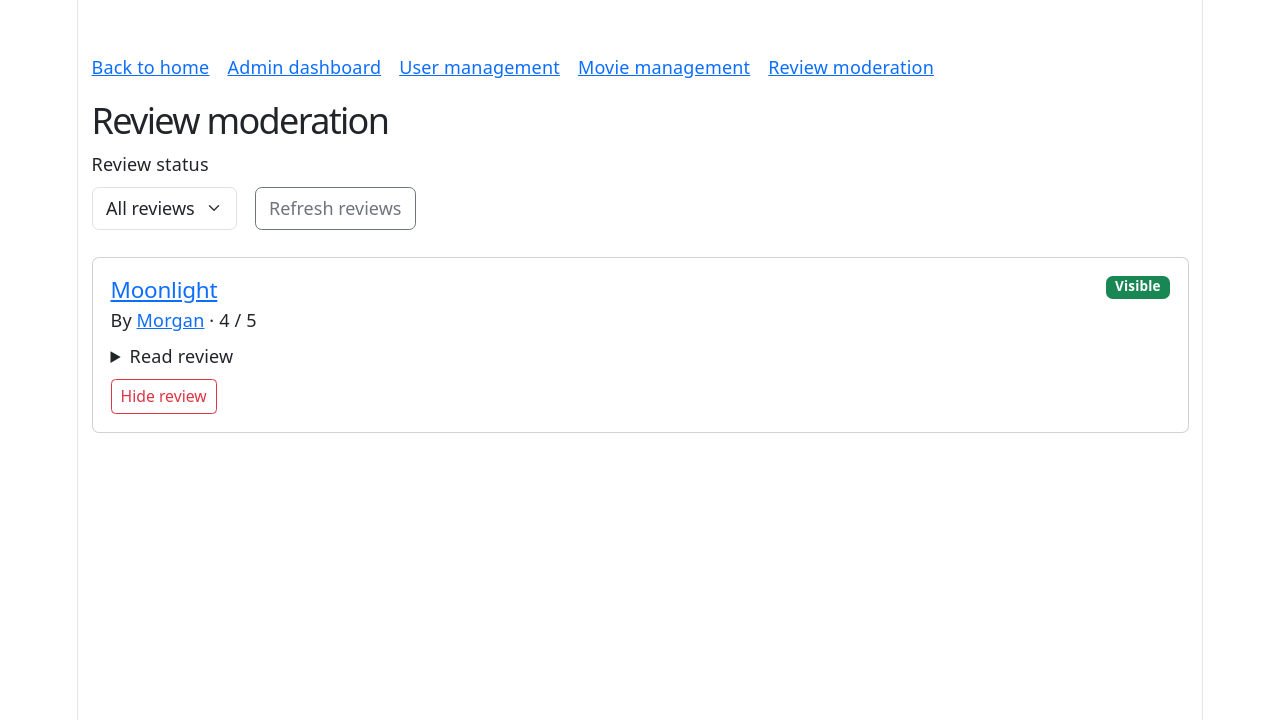
Test: preserves the entered reason and review status when Laravel rejects a change
Click the button with aria-label "Hide review of Moonlight by Morgan". click: (164, 396)
box: x1=110 y1=379 x2=217 y2=414
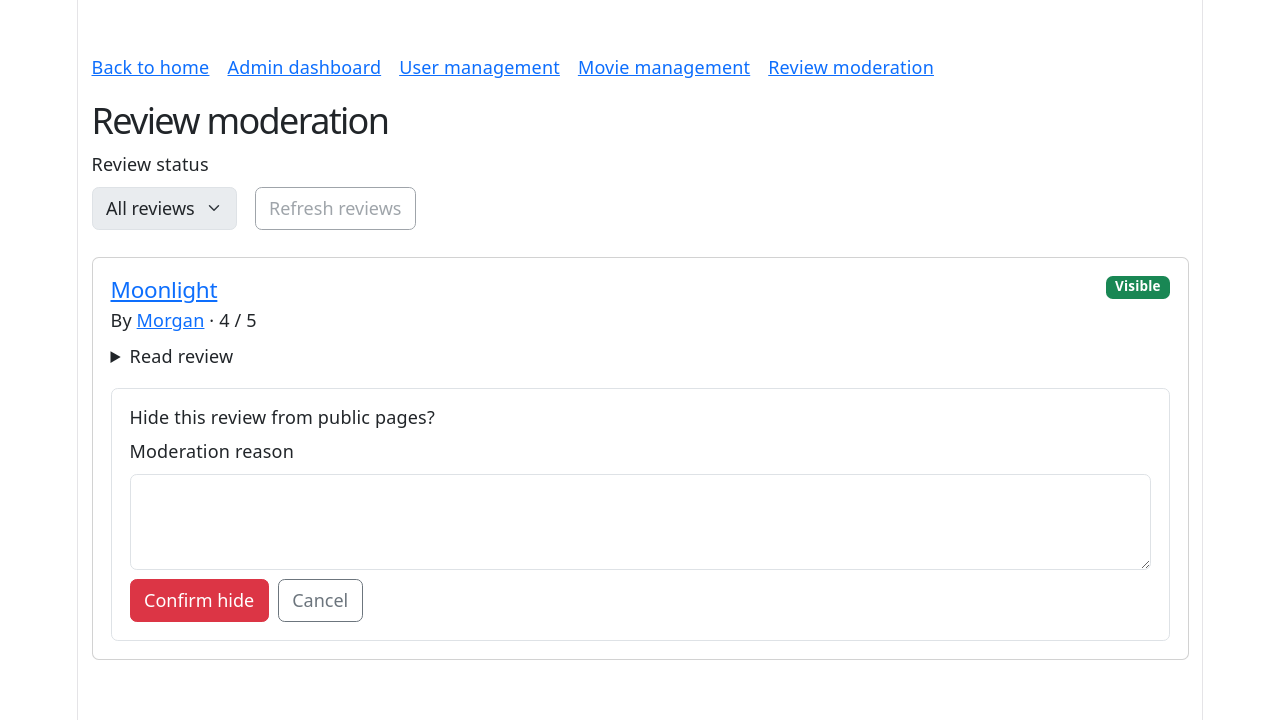
Type "Draft reason" into the text box labelled "Moderation reason". click: (640, 522)
box: x1=130 y1=474 x2=1150 y2=570
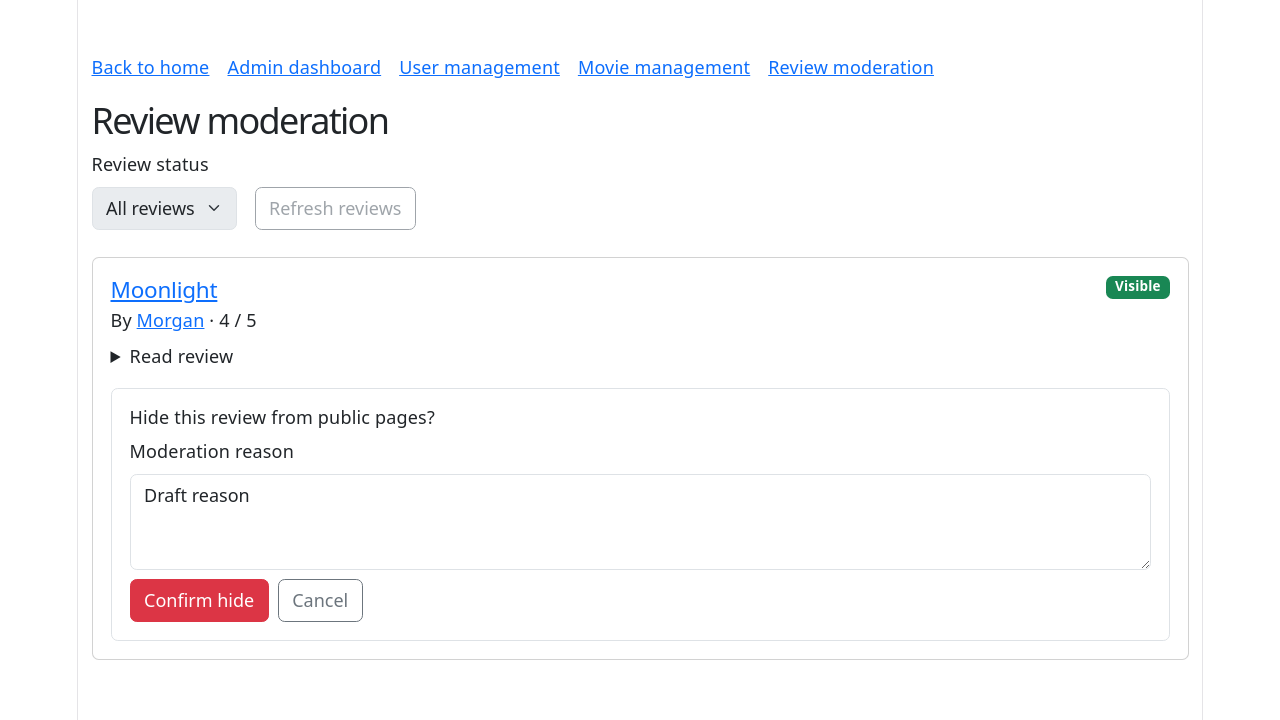
Click the button "Confirm hide". click: (199, 601)
box: x1=130 y1=579 x2=269 y2=622
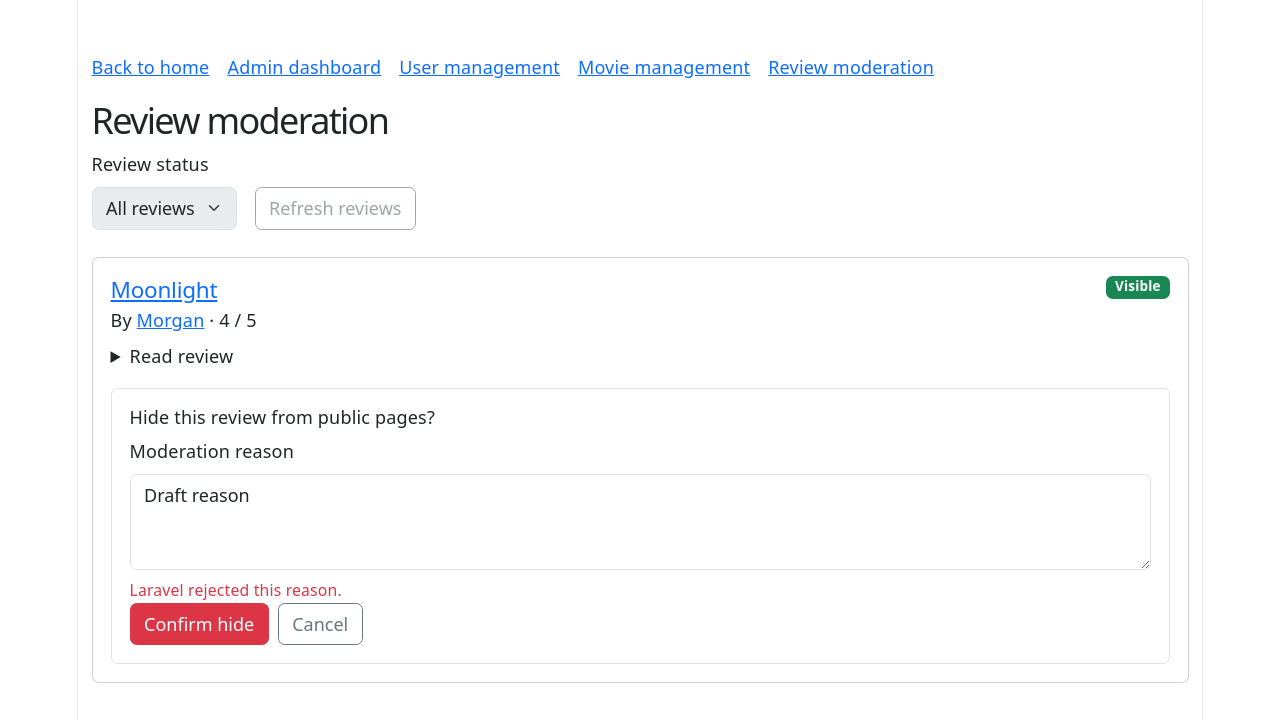
Expected: the text "Laravel rejected this reason." is shown, x1=130 y1=579 x2=342 y2=601
Click the button "Cancel". click: (320, 624)
box: x1=278 y1=603 x2=363 y2=645
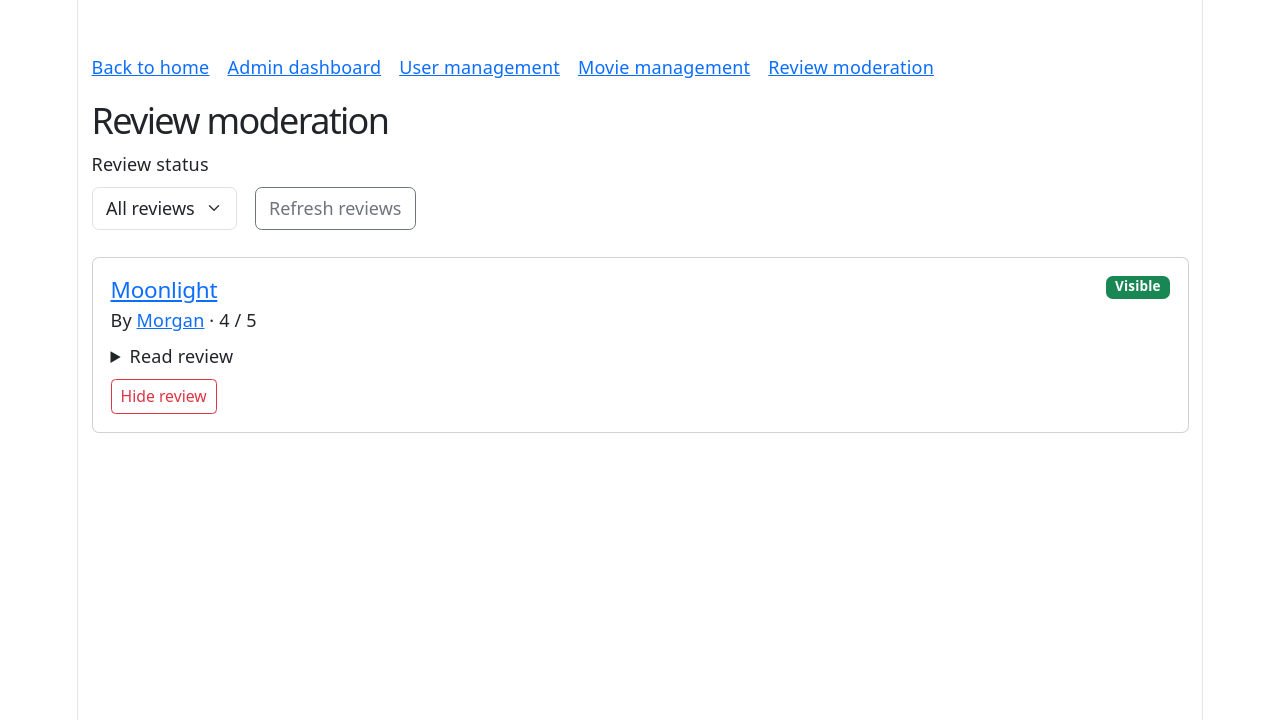
Expected: the button with aria-label "Hide review of Moonlight by Morgan" is shown, x1=110 y1=379 x2=217 y2=414
